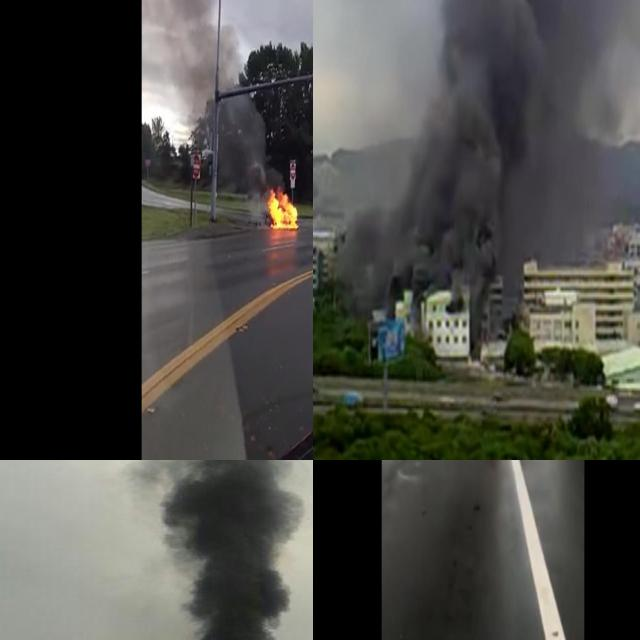fire: (266, 188, 298, 231)
smoke: (321, 0, 640, 308), (135, 460, 313, 640), (145, 0, 219, 97), (221, 101, 264, 194), (218, 23, 245, 87)
